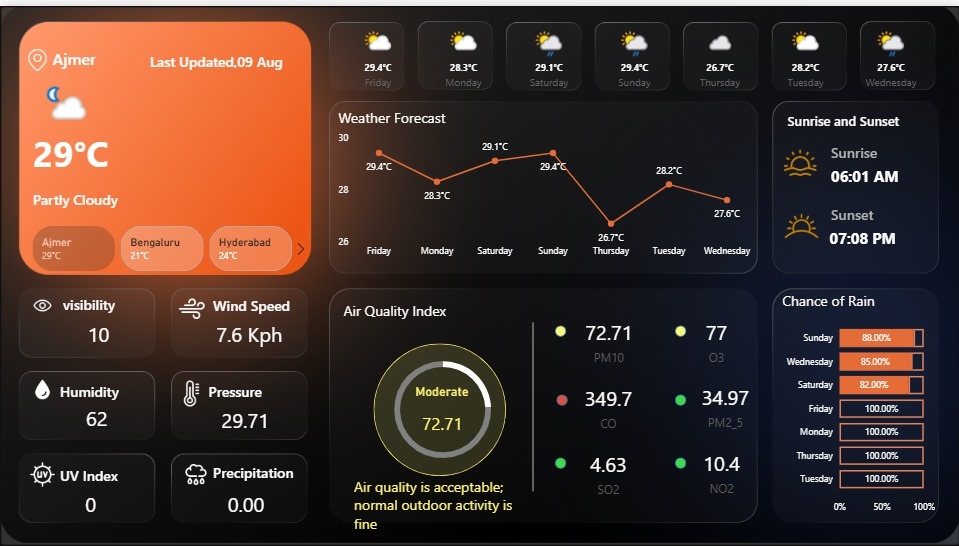

The page's visual inventory and layout, read from the dashboard file:
{"tool":"powerbi","page":{"name":"Page 1","canvas":[1280,720],"ordinal":0},"visuals":[{"type":"shape","box":[498.3,450,176.7,176.7],"z":0},{"type":"advancedSlicerVisual","fields":{"Values":["Locations.location.name"]},"box":[18.8,288.8,398.8,70],"z":1000},{"type":"shape","box":[43.8,153.8,143.8,81.2],"z":2000},{"type":"shape","box":[43.8,235,358.8,42.5],"z":3000},{"type":"shape","box":[69.9,51,117.2,35.9],"z":4000},{"type":"shape","box":[200,45,201.7,53.3],"z":5000},{"type":"image","box":[30.2,51,39.7,39.7],"z":6000},{"type":"simpleImageEBC4593F96F1425FB3D84C5BF02B5075","fields":{"imageURL":["current.current.condition.icon"]},"box":[50,97.5,91.2,75],"z":7000},{"type":"image","box":[30,380,53.3,38.3],"z":8000},{"type":"shape","box":[83.3,380,103.3,35],"z":9000},{"type":"image","box":[231.7,380,46.7,46.7],"z":10000},{"type":"shape","box":[283.3,380,123.3,38.3],"z":11000},{"type":"shape","box":[278.3,485,118.3,53.3],"z":12000},{"type":"shape","box":[80,485,125,53.3],"z":13000},{"type":"image","box":[30,491.7,53.3,38.3],"z":14000},{"type":"image","box":[231.7,493.3,46.7,45],"z":15000},{"type":"image","box":[30,601.7,53.3,45],"z":16000},{"type":"shape","box":[80,600,116.7,50],"z":17000},{"type":"image","box":[231.7,601.7,58.3,45],"z":18000},{"type":"shape","box":[283.3,600,113.3,43.3],"z":19000},{"type":"card","fields":{"Values":["Sum(current.current.humidity)"]},"box":[91.7,530,73.3,41.7],"z":20000},{"type":"card","fields":{"Values":["_Measures.Wind Speed"]},"box":[261.7,418.3,140,41.7],"z":21000},{"type":"card","fields":{"Values":["Sum(current.current.vis_km)"]},"box":[95,418.3,70,41.7],"z":22000},{"type":"card","fields":{"Values":["Sum(current.current.pressure_in)"]},"box":[290,531.7,73.3,41.7],"z":23000},{"type":"card","fields":{"Values":["Sum(current.current.uv)"]},"box":[83.3,643.3,73.3,41.7],"z":24000},{"type":"card","fields":{"Values":["Sum(current.current.precip_in)"]},"box":[295,643.3,63.3,41.7],"z":25000},{"type":"advancedSlicerVisual","fields":{"Values":["forecast_Day.Day_Name"]},"box":[445,21.7,806.7,100],"z":26000},{"type":"lineChart","title":"Weather Forecast","fields":{"Y":["Sum(forecast_Day.forecast.forecastday.day.avgtemp_c)"],"Category":["forecast_Day.Day_Name"]},"box":[445,135,565,208.3],"z":27000},{"type":"shape","title":"Sun","box":[1050,130,180,45],"z":28000},{"type":"shape","box":[1108.3,195,145,61.7],"z":29000},{"type":"shape","box":[1106.7,278.3,145,61.7],"z":30000},{"type":"shape","box":[1108.3,258.3,123.3,38.3],"z":31000},{"type":"shape","box":[1108.3,175,160,38.3],"z":32000},{"type":"image","box":[1026.7,181.7,81.7,53.3],"z":33000},{"type":"image","box":[1026.7,258.3,85,70],"z":34000},{"type":"hundredPercentStackedBarChart","title":"Chance of Rain","fields":{"Y":["Sum(forecast_Day.forecast.forecastday.day.daily_chance_of_rain)","current.Left_Value_Rain"],"Category":["forecast_Day.Day_Name"]},"box":[1038.3,380,213.3,305],"z":35000},{"type":"shape","box":[458.3,385,165,38.3],"z":36000},{"type":"card","fields":{"Values":["Sum(current.current.air_quality.co)"]},"box":[756.7,493.3,110,80],"z":37000},{"type":"card","fields":{"Values":["Sum(current.current.air_quality.no2)"]},"box":[915,581.7,91.7,76.7],"z":38000},{"type":"card","fields":{"Values":["Sum(current.current.air_quality.pm2_5)"]},"box":[915,490,101.7,85],"z":39000},{"type":"card","fields":{"Values":["Sum(current.current.air_quality.so2)"]},"box":[756.7,581.7,110,80],"z":40000},{"type":"card","fields":{"Values":["Sum(current.current.air_quality.o3)"]},"box":[900,406.7,110,80],"z":41000},{"type":"card","fields":{"Values":["Sum(current.current.air_quality.pm10)"]},"box":[763.3,410,95,73.3],"z":42000},{"type":"shape","box":[740,426.7,15,15],"z":43000},{"type":"shape","box":[741.7,518.3,15,15],"z":44000},{"type":"shape","box":[740,601.7,15,15],"z":45000},{"type":"shape","box":[900,426.7,15,15],"z":46000},{"type":"shape","box":[900,601.7,15,15],"z":47000},{"type":"shape","box":[900,518.3,15,15],"z":48000},{"type":"shape","box":[703.3,421.7,13.3,225],"z":49000},{"type":"card","fields":{"Values":["Sum(current.current.air_quality.pm10)"]},"box":[541.7,503.3,95,88.3],"z":50000},{"type":"donutChart","fields":{"Y":["Sum(current.current.air_quality.pm10)","_Measures.Left_value_PM10"]},"box":[503.3,431.7,171.7,211.7],"z":51000},{"type":"shape","box":[471.7,625,213.3,76.7],"z":52000}]}

Visuals, with their boxes in screenshot pixels (x1, y1, x2, y2), scaled from the page's 1280x720 canvas onto the 959x546 screenshot:
shape: l=373, t=341, r=506, b=475
advancedSlicerVisual - Locations.location.name: l=14, t=219, r=313, b=272
shape: l=33, t=117, r=141, b=178
shape: l=33, t=178, r=302, b=210
shape: l=52, t=39, r=140, b=66
shape: l=150, t=34, r=301, b=75
image: l=23, t=39, r=52, b=69
simpleImageEBC4593F96F1425FB3D84C5BF02B5075 - current.current.condition.icon: l=37, t=74, r=106, b=131
image: l=22, t=288, r=62, b=317
shape: l=62, t=288, r=140, b=315
image: l=174, t=288, r=209, b=324
shape: l=212, t=288, r=305, b=317
shape: l=209, t=368, r=297, b=408
shape: l=60, t=368, r=154, b=408
image: l=22, t=373, r=62, b=402
image: l=174, t=374, r=209, b=408
image: l=22, t=456, r=62, b=490
shape: l=60, t=455, r=147, b=493
image: l=174, t=456, r=217, b=490
shape: l=212, t=455, r=297, b=488
card - Sum(current.current.humidity): l=69, t=402, r=124, b=434
card - _Measures.Wind Speed: l=196, t=317, r=301, b=349
card - Sum(current.current.vis_km): l=71, t=317, r=124, b=349
card - Sum(current.current.pressure_in): l=217, t=403, r=272, b=435
card - Sum(current.current.uv): l=62, t=488, r=117, b=519
card - Sum(current.current.precip_in): l=221, t=488, r=268, b=519
advancedSlicerVisual - forecast_Day.Day_Name: l=333, t=16, r=938, b=92
"Weather Forecast" lineChart: l=333, t=102, r=757, b=260
"Sun" shape: l=787, t=99, r=922, b=133
shape: l=830, t=148, r=939, b=195
shape: l=829, t=211, r=938, b=258
shape: l=830, t=196, r=923, b=225
shape: l=830, t=133, r=950, b=162
image: l=769, t=138, r=830, b=178
image: l=769, t=196, r=833, b=249
"Chance of Rain" hundredPercentStackedBarChart: l=778, t=288, r=938, b=519
shape: l=343, t=292, r=467, b=321
card - Sum(current.current.air_quality.co): l=567, t=374, r=649, b=435
card - Sum(current.current.air_quality.no2): l=686, t=441, r=754, b=499
card - Sum(current.current.air_quality.pm2_5): l=686, t=372, r=762, b=436
card - Sum(current.current.air_quality.so2): l=567, t=441, r=649, b=502
card - Sum(current.current.air_quality.o3): l=674, t=308, r=757, b=369
card - Sum(current.current.air_quality.pm10): l=572, t=311, r=643, b=367
shape: l=554, t=324, r=566, b=335
shape: l=556, t=393, r=567, b=404
shape: l=554, t=456, r=566, b=468
shape: l=674, t=324, r=686, b=335
shape: l=674, t=456, r=686, b=468
shape: l=674, t=393, r=686, b=404
shape: l=527, t=320, r=537, b=490
card - Sum(current.current.air_quality.pm10): l=406, t=382, r=477, b=449
donutChart - Sum(current.current.air_quality.pm10) x _Measures.Left_value_PM10: l=377, t=327, r=506, b=488
shape: l=353, t=474, r=513, b=532
